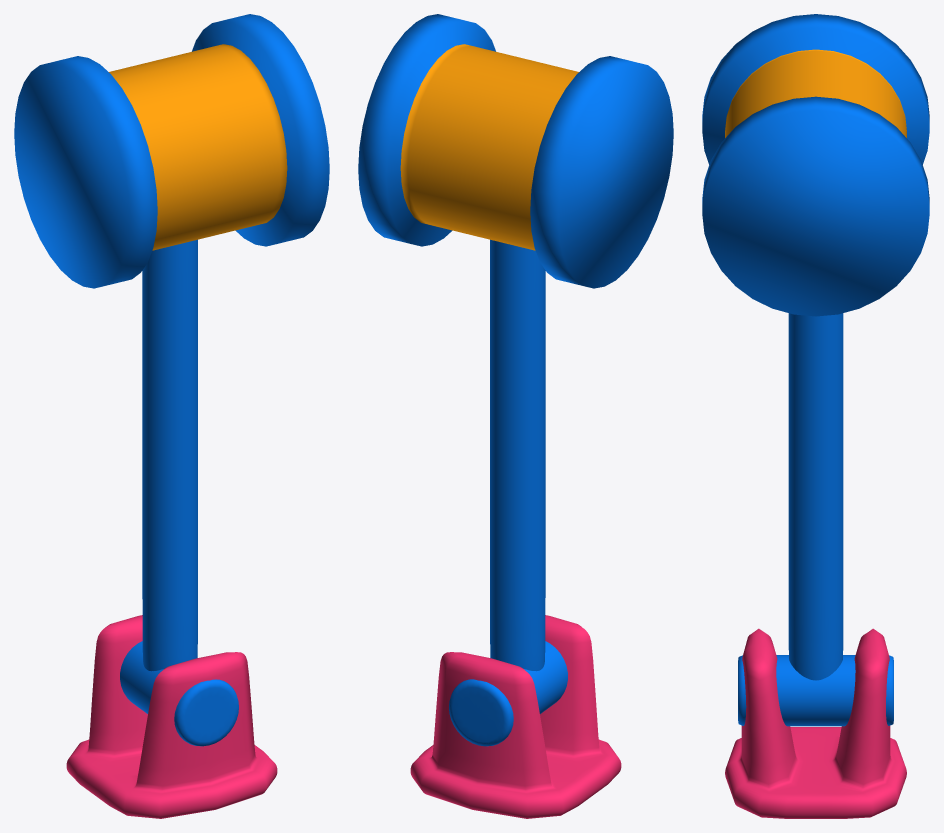
3 views of the same model, side by side, from view 1: azimuth 30°, elevation 25°; view 2: azimuth 150°, elevation 25°; view 3: azimuth 270°, elevation 25° (orthographic).
Visible parts, largest first — view 1: Balyoz.001, Kol.013, Merkez.013; view 2: Balyoz.001, Kol.013, Merkez.013; view 3: Balyoz.001, Kol.013, Merkez.013.
Boxes of the visible parts, left/top/right/bottom form: Balyoz.001: left=14, top=14, right=329, bottom=288; Kol.013: left=120, top=239, right=238, bottom=746; Merkez.013: left=66, top=615, right=277, bottom=818; Balyoz.001: left=358, top=14, right=673, bottom=288; Kol.013: left=449, top=239, right=567, bottom=746; Merkez.013: left=410, top=615, right=621, bottom=818; Balyoz.001: left=702, top=14, right=929, bottom=316; Kol.013: left=738, top=313, right=893, bottom=726; Merkez.013: left=725, top=628, right=906, bottom=818.
Bounding box in the file's own units: 20 × 69.99 × 20.
